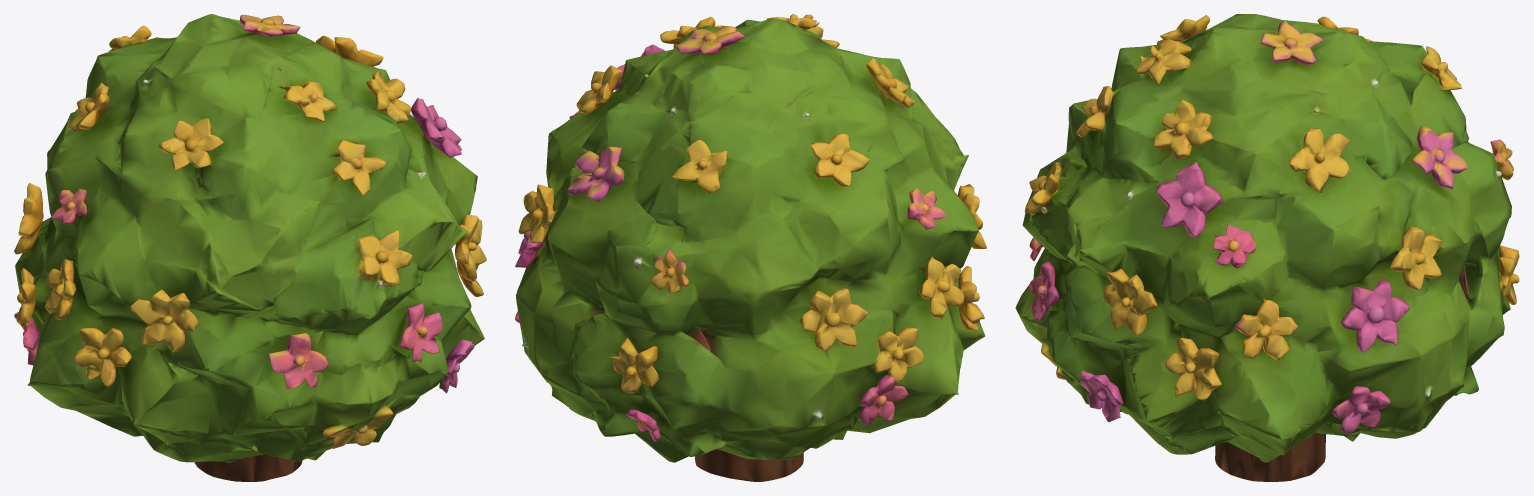
File: bush.glb
3 renders of one model, left to right at view 1: azimuth 30°, elevation 25°; view 2: azimuth 150°, elevation 25°; view 3: azimuth 270°, elevation 25°, orthographic.
Parts seen in each view (by area): view 1: tripo_node_97515156-e250-4d7e-b0f7-fdfb6ca0c742; view 2: tripo_node_97515156-e250-4d7e-b0f7-fdfb6ca0c742; view 3: tripo_node_97515156-e250-4d7e-b0f7-fdfb6ca0c742.
Part boxes in pixels (x1=…): tripo_node_97515156-e250-4d7e-b0f7-fdfb6ca0c742: x1=14, y1=14, x2=486, y2=481; tripo_node_97515156-e250-4d7e-b0f7-fdfb6ca0c742: x1=515, y1=14, x2=986, y2=481; tripo_node_97515156-e250-4d7e-b0f7-fdfb6ca0c742: x1=1015, y1=14, x2=1519, y2=481.
Bounding box in the file's own units: 0.9999 × 0.9594 × 0.9955.
1 material, 1 textured.
